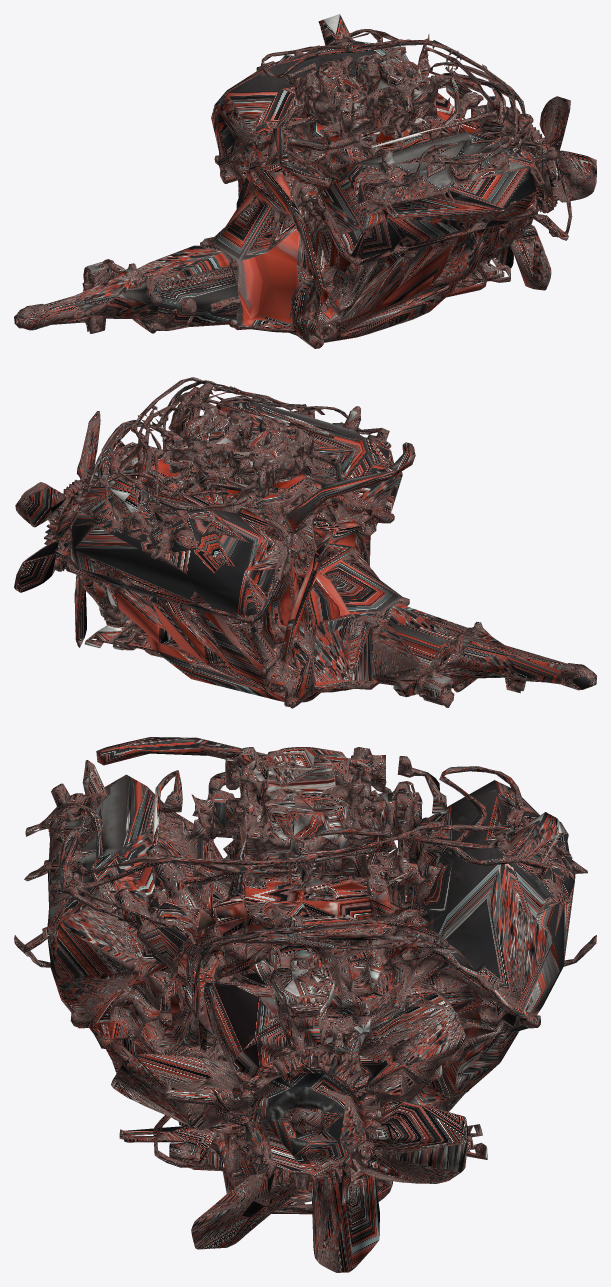
The model's file is hemi_426_engine.glb.
The picture shows the model from 3 angles, top to bottom: view 1: azimuth 30°, elevation 25°; view 2: azimuth 150°, elevation 25°; view 3: azimuth 270°, elevation 25°; orthographic projection. The views are drawn at different scales.
Size of the model in its own units: 1.6 by 0.7114 by 0.9616.
1 material, 1 textured.
